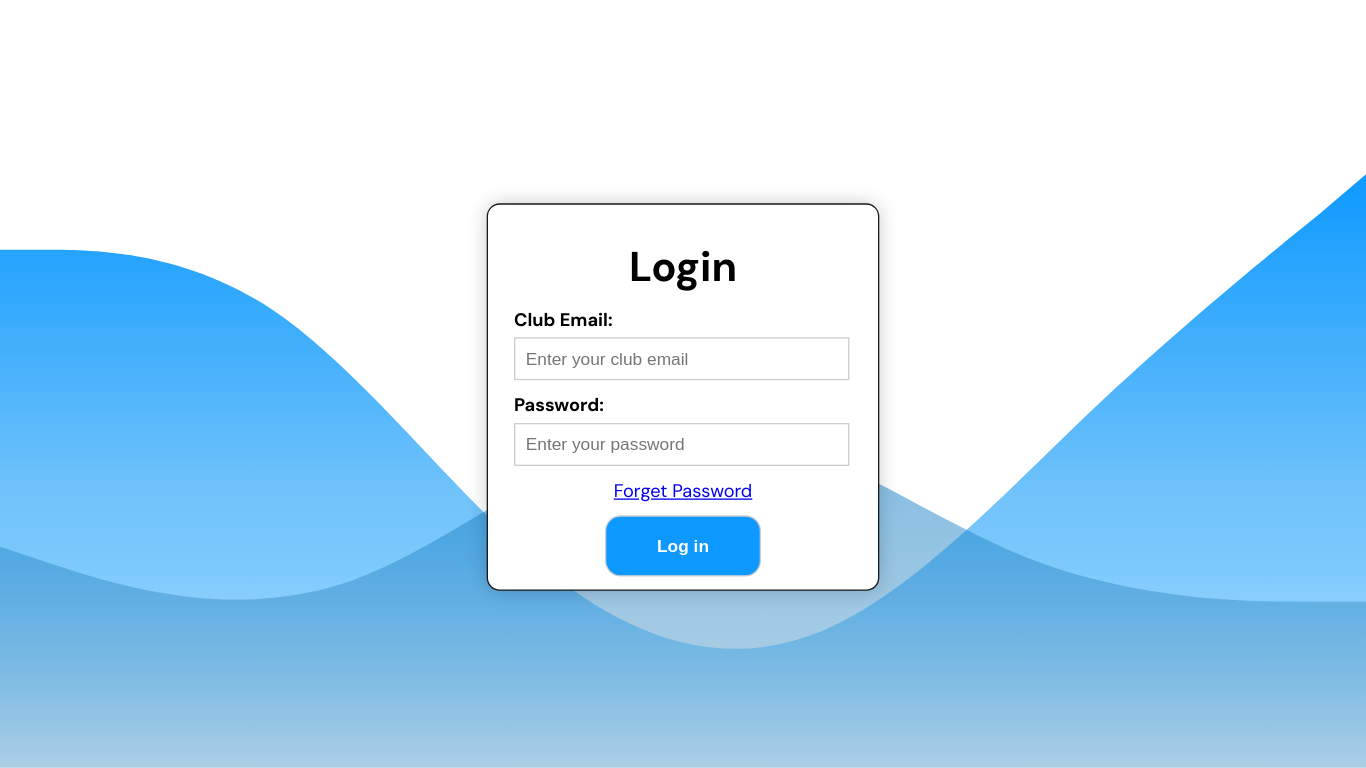
Test: Login Form Validation › should reject the login due to empty email field
Type "P@ssword1!" into the password field with placeholder "Enter your password". click: (682, 444)
box: [514,423,849,466]
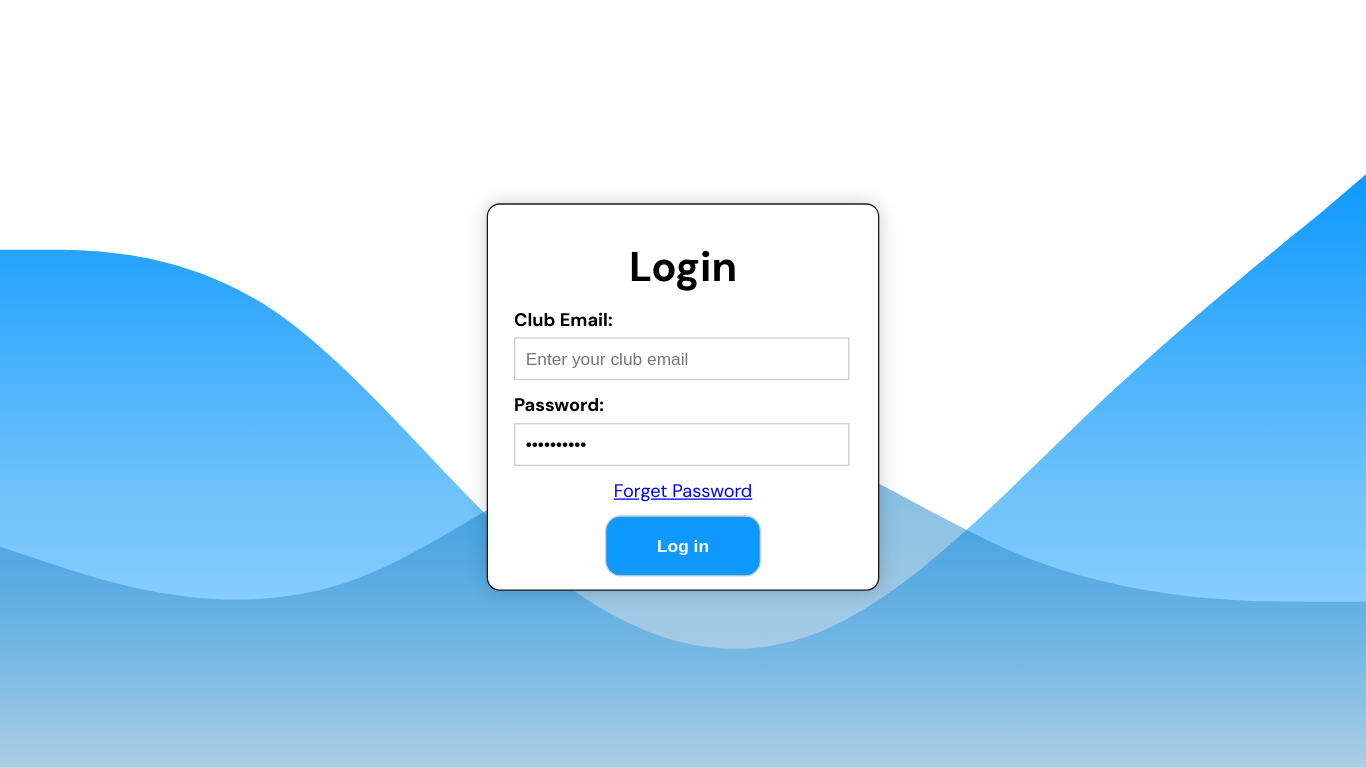
Click the button with test id "Log in". click: (683, 546)
box: [605,515,761,576]
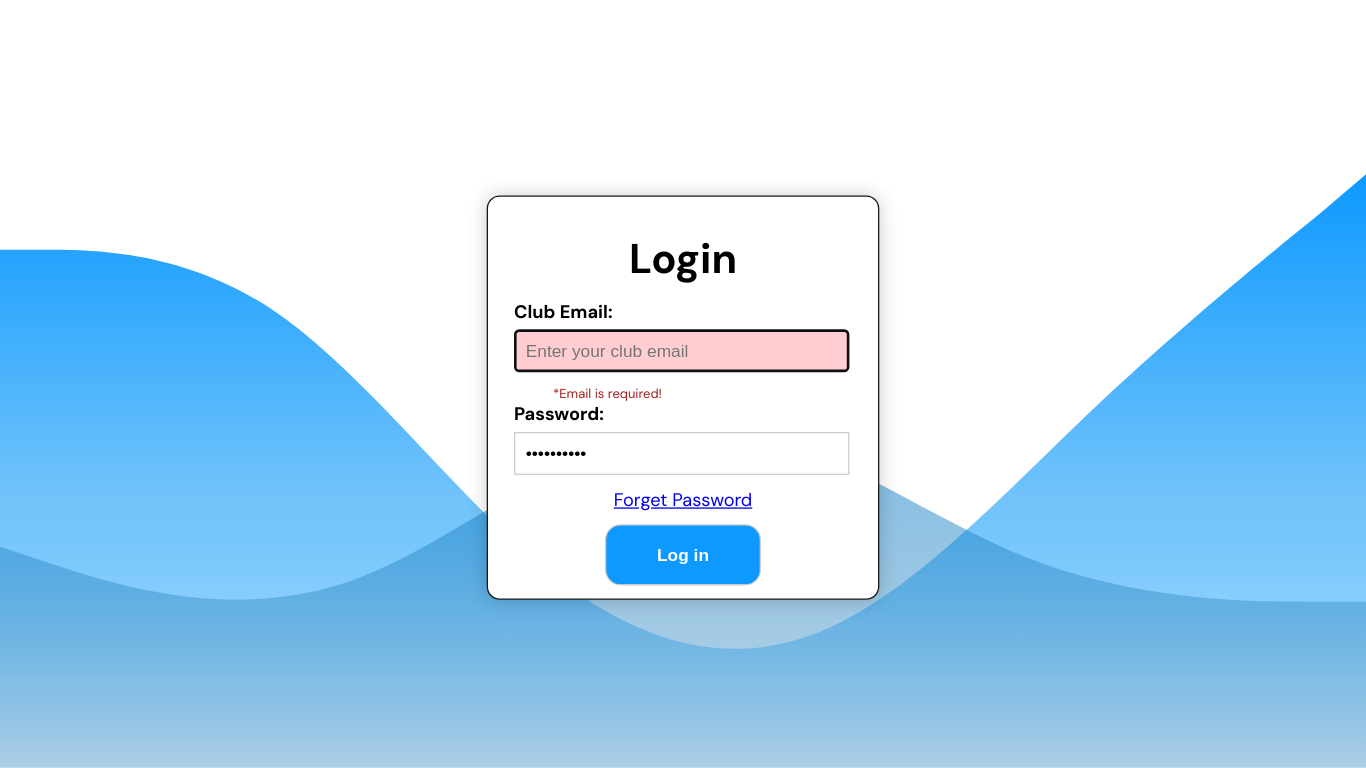
Expected: the text "*Email is required!" is shown, [553,384,662,401]
